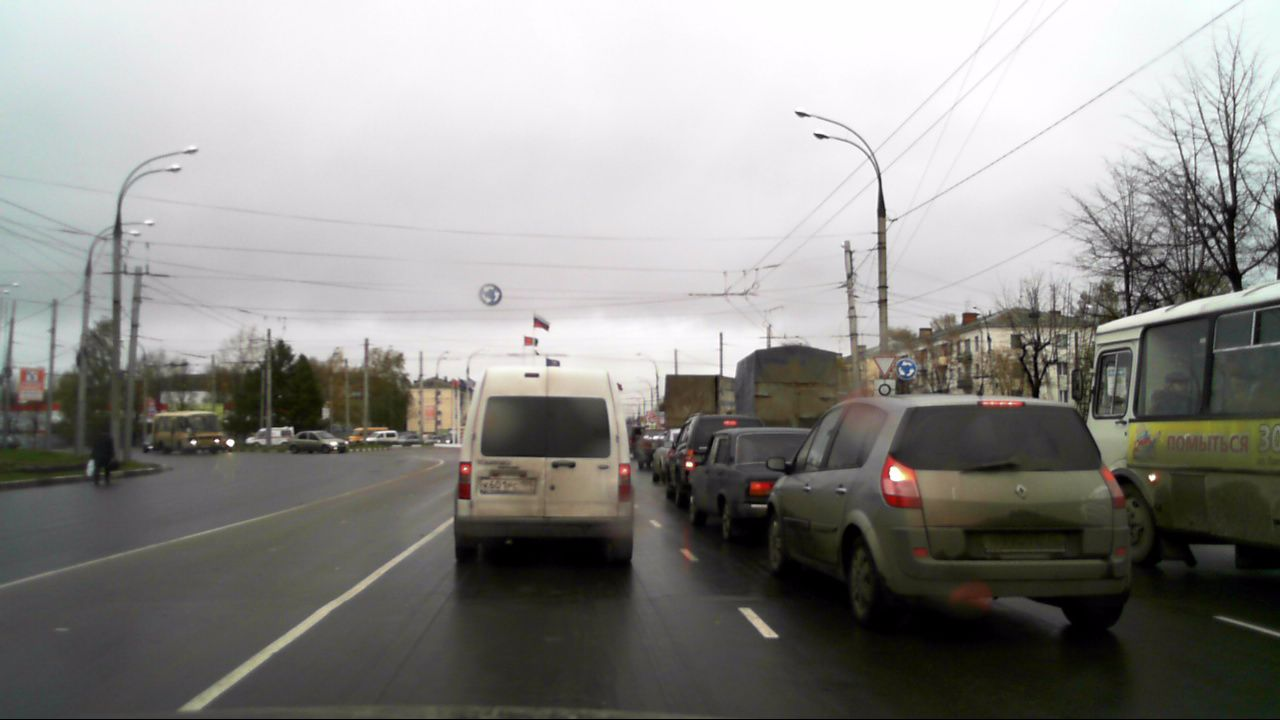Round-About: (478, 283, 502, 307)
